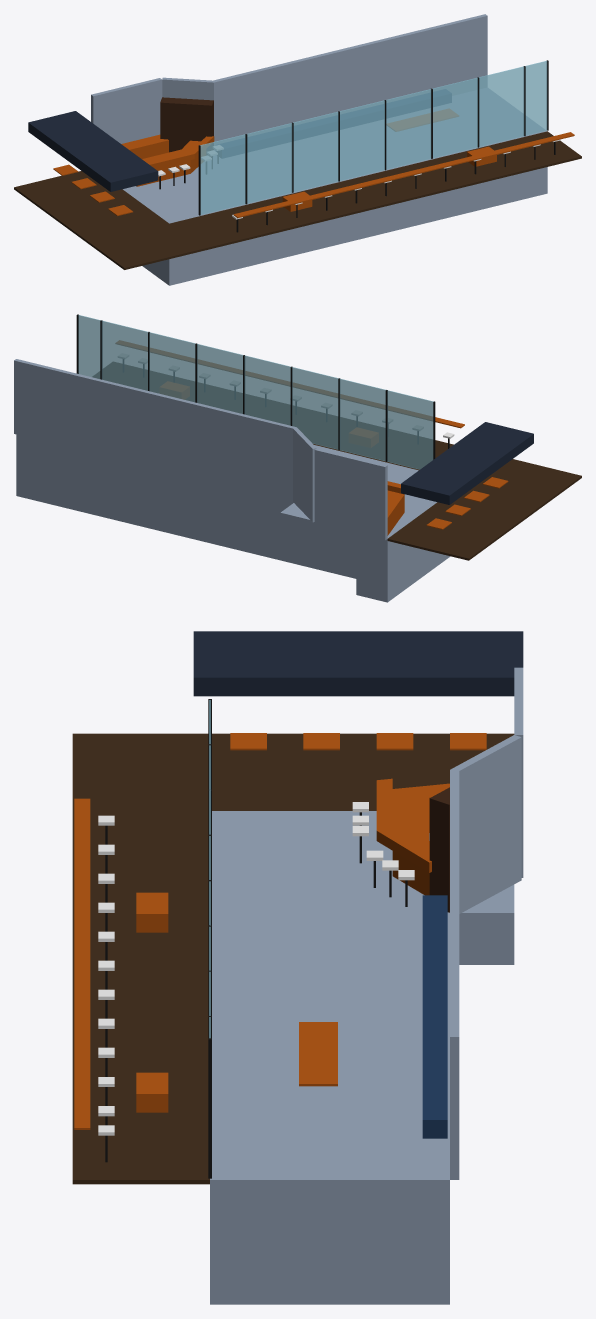
The model's file is MODEL_3D_CAFE_ANJALAI.obj.
3 renders of one model, top to bottom at view 1: azimuth 30°, elevation 25°; view 2: azimuth 150°, elevation 25°; view 3: azimuth 270°, elevation 25°, orthographic. The views are drawn at different scales.
Bounding box in the file's own units: 23.1 × 6.45 × 9.84.
